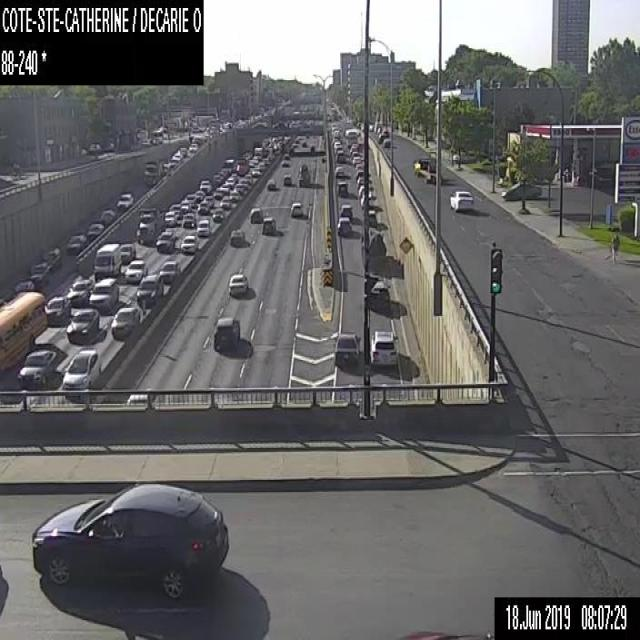bus: (0, 290, 45, 370)
pedestrian: (610, 235, 616, 265), (614, 233, 620, 257)
vehicle: (31, 481, 227, 600), (62, 348, 100, 389), (18, 349, 56, 386), (66, 308, 99, 340), (369, 330, 398, 365), (136, 208, 164, 244), (89, 277, 118, 311), (94, 242, 121, 278), (213, 316, 240, 349), (112, 306, 138, 339), (334, 331, 359, 364), (137, 274, 162, 307), (501, 180, 541, 200), (66, 278, 94, 305), (45, 296, 70, 325), (413, 157, 436, 184), (368, 280, 390, 308), (449, 188, 475, 209), (29, 262, 50, 287), (125, 260, 147, 282), (144, 160, 163, 184), (160, 260, 180, 282), (43, 247, 61, 271), (66, 234, 87, 254), (228, 273, 247, 295), (156, 231, 174, 251), (126, 393, 152, 406), (116, 192, 133, 210), (180, 235, 198, 252), (297, 163, 309, 187), (337, 216, 351, 235), (120, 243, 134, 262), (87, 222, 103, 238), (99, 209, 115, 225), (197, 218, 210, 236), (235, 157, 248, 174), (262, 217, 275, 234), (230, 228, 243, 245), (15, 280, 33, 292), (182, 212, 196, 227), (360, 191, 373, 207), (345, 128, 356, 146), (339, 203, 352, 218), (250, 206, 262, 222), (290, 201, 302, 216), (336, 181, 348, 195), (169, 204, 181, 218), (199, 180, 211, 194), (212, 208, 224, 221), (164, 210, 174, 225), (184, 194, 196, 206), (197, 201, 209, 213), (220, 196, 230, 209), (253, 146, 262, 160), (224, 176, 234, 188), (151, 130, 161, 142), (194, 189, 203, 202), (225, 158, 233, 172), (358, 185, 369, 195), (281, 153, 290, 165), (367, 209, 376, 221), (181, 200, 190, 212), (204, 196, 213, 208), (252, 121, 267, 128), (229, 190, 239, 200), (213, 188, 223, 198), (335, 166, 344, 177), (171, 153, 182, 162), (336, 150, 344, 162), (213, 174, 221, 186), (356, 176, 364, 188), (251, 167, 261, 176), (238, 179, 248, 188), (266, 179, 275, 189), (378, 132, 386, 143), (217, 171, 225, 182), (374, 120, 381, 132), (283, 174, 291, 184), (236, 183, 244, 193), (188, 142, 196, 152), (355, 170, 363, 179), (331, 138, 338, 148), (220, 183, 228, 191), (383, 137, 390, 146), (352, 156, 360, 163), (309, 144, 316, 152), (334, 144, 341, 152), (351, 151, 358, 159), (349, 146, 356, 154), (381, 128, 388, 136), (354, 163, 362, 170), (180, 147, 186, 156), (163, 163, 168, 173), (333, 141, 340, 148), (248, 159, 254, 167), (301, 140, 306, 148), (377, 127, 381, 133), (351, 143, 356, 146)
